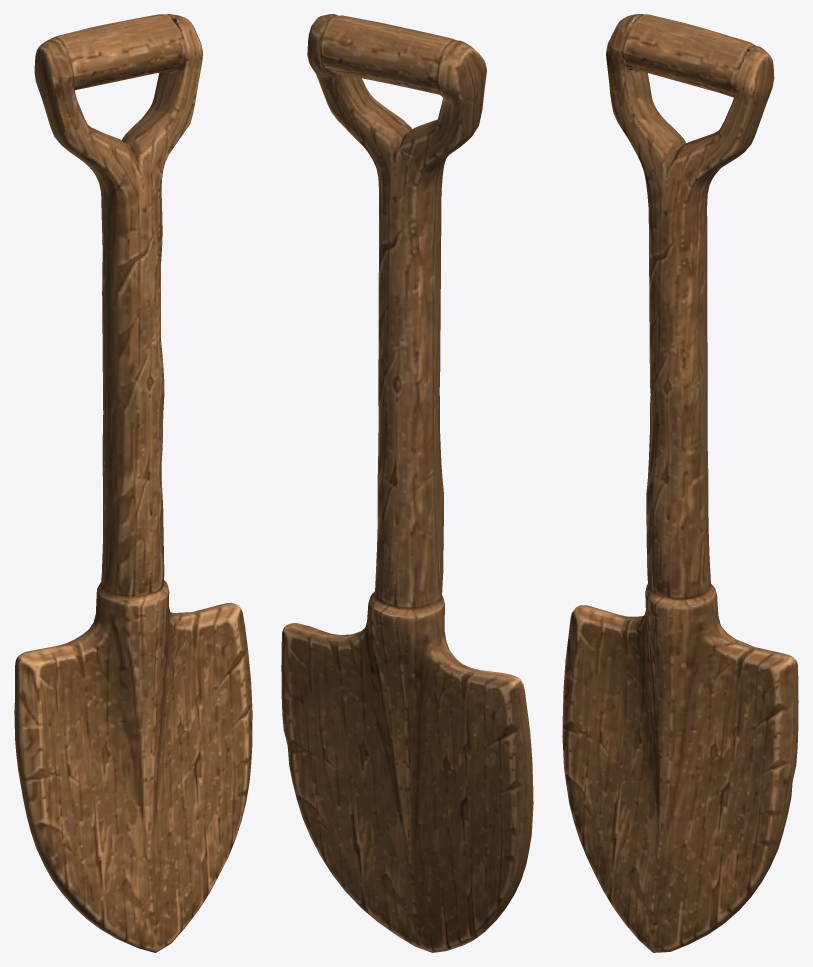
File: shovel-wood.glb
3 renders of one model, left to right at view 1: azimuth 30°, elevation 25°; view 2: azimuth 150°, elevation 25°; view 3: azimuth 330°, elevation 25°, orthographic. The views are drawn at different scales.
Parts seen in each view (by area): view 1: Mesh0; view 2: Mesh0; view 3: Mesh0.
Part boxes in pixels (x1=…): Mesh0: x1=14, y1=14, x2=252, y2=952; Mesh0: x1=281, y1=14, x2=533, y2=952; Mesh0: x1=562, y1=14, x2=798, y2=952.
Size of the model in its own units: 0.2969 by 1.1 by 0.1253.
1 material, 1 textured.
